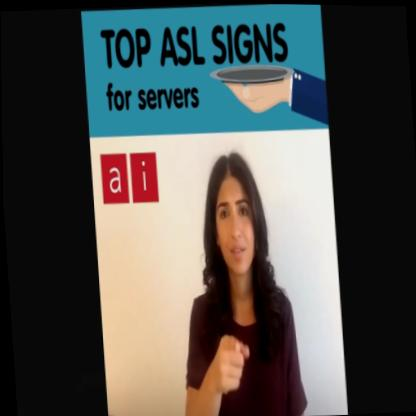HowAreYou: (196, 307, 277, 416)
